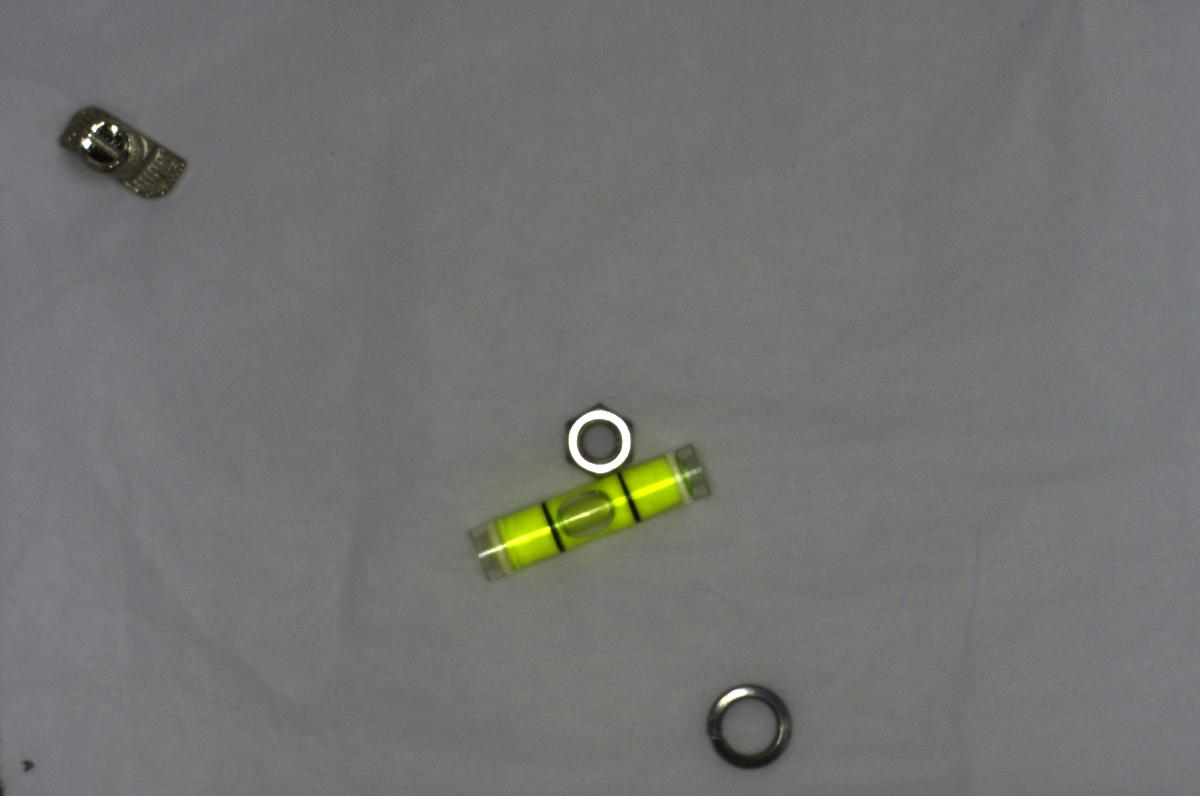Hexagon nut: (551, 394, 637, 479)
Horizontal bubble: (452, 434, 715, 587)
Spring washer: (698, 672, 804, 776)
T-shaped screw: (50, 98, 188, 208)
